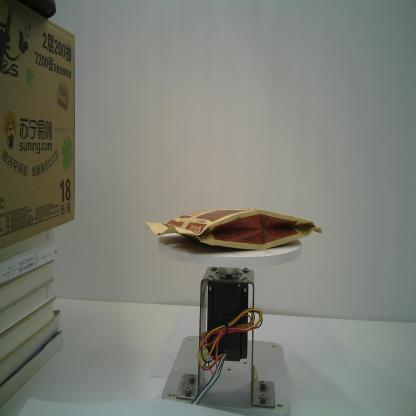Dried Food: (143, 207, 322, 250)
